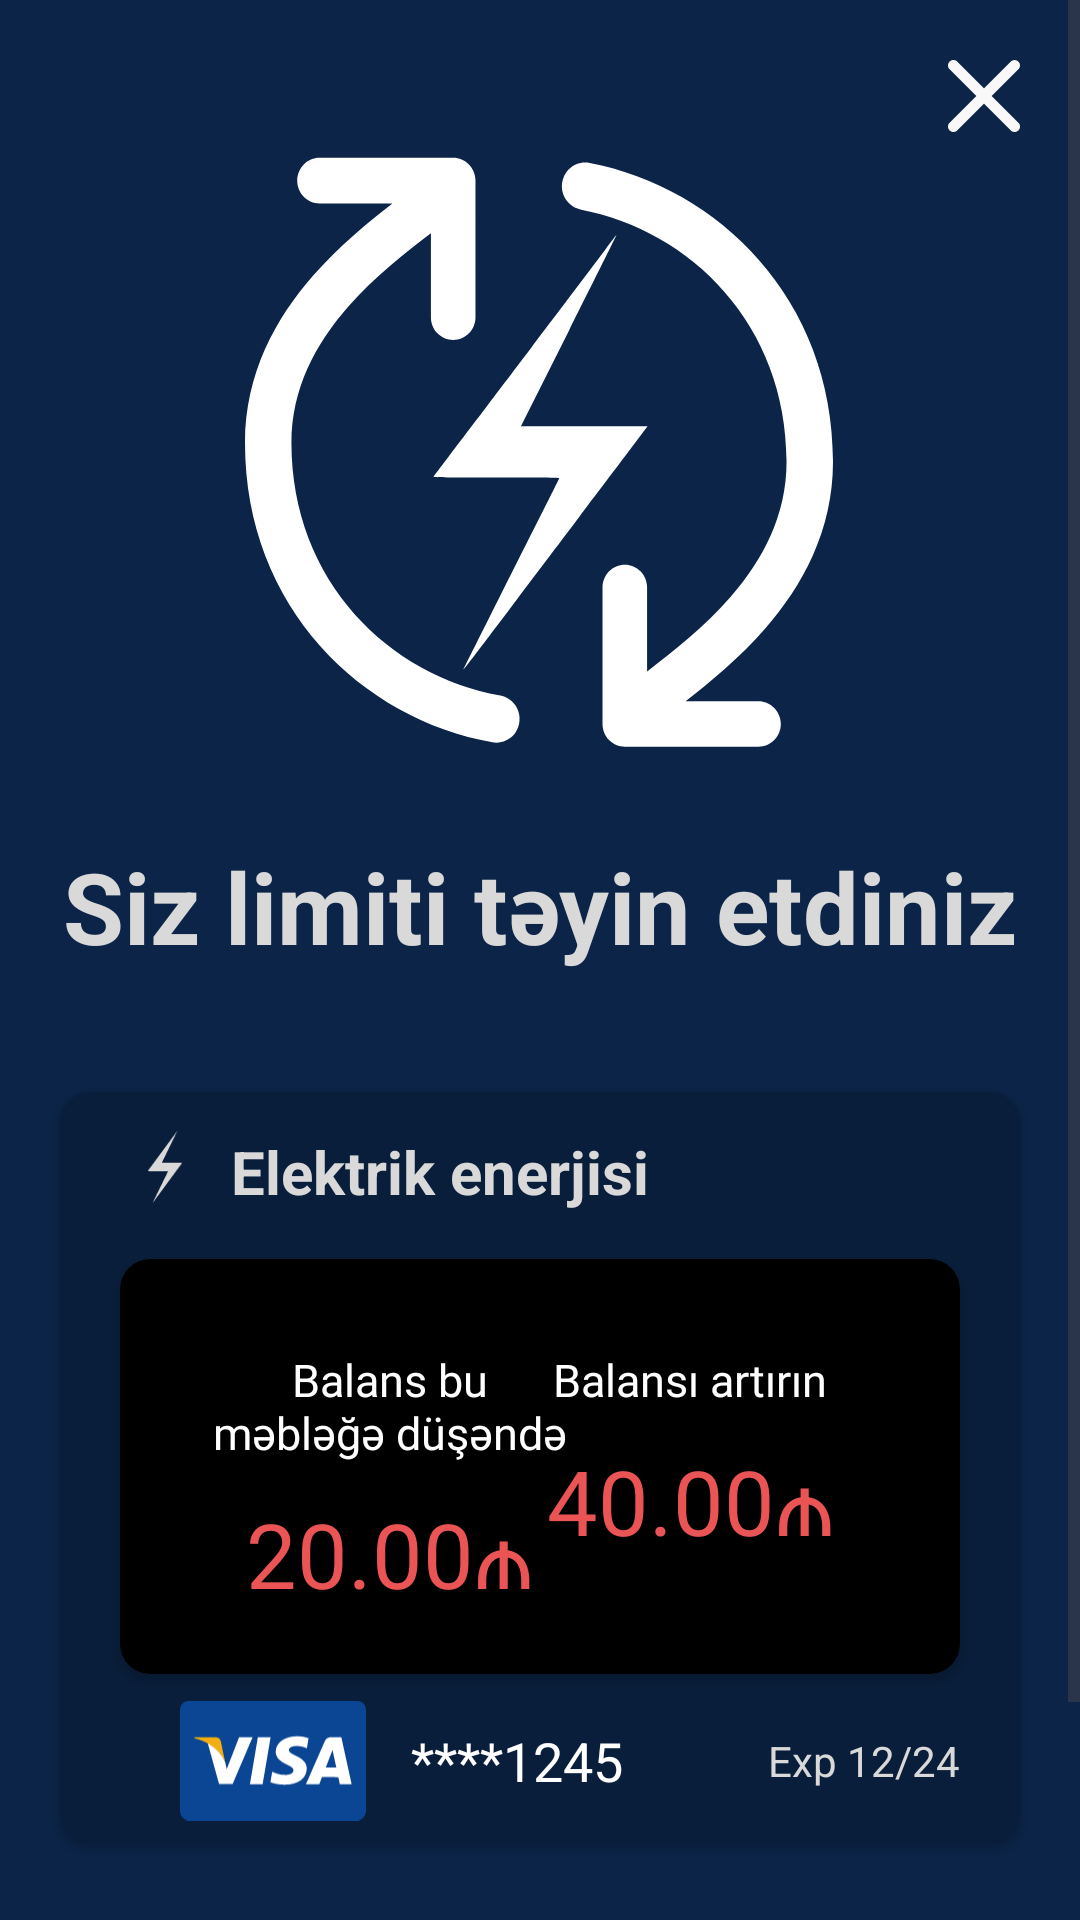

Icons on this 1080×1920 Android screen, each with its box as (x1, y1, x2, y2):
close: (948, 60, 1020, 132)
